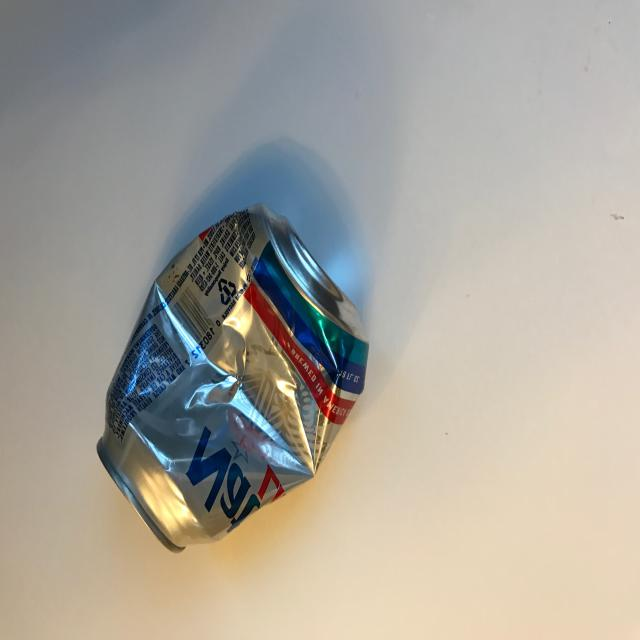metal: (96, 202, 370, 552)
